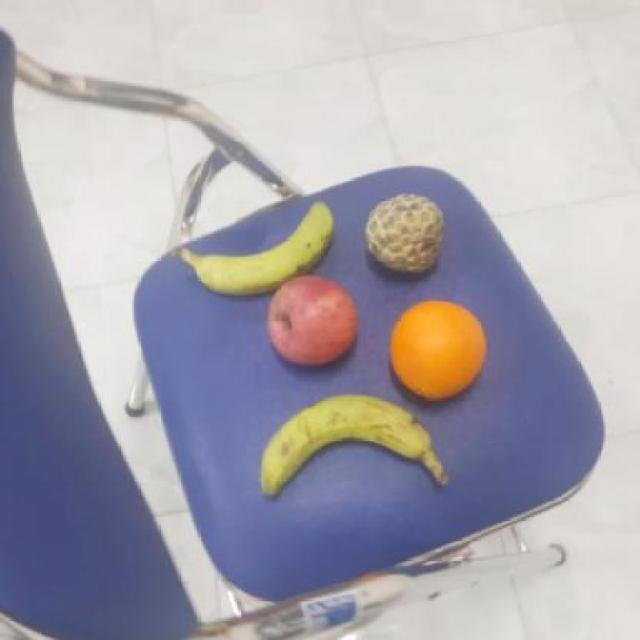apple: (263, 270, 362, 368)
banana: (254, 392, 438, 498), (198, 192, 340, 297)
oren: (387, 294, 488, 398)
sugar apple: (362, 190, 449, 272)
